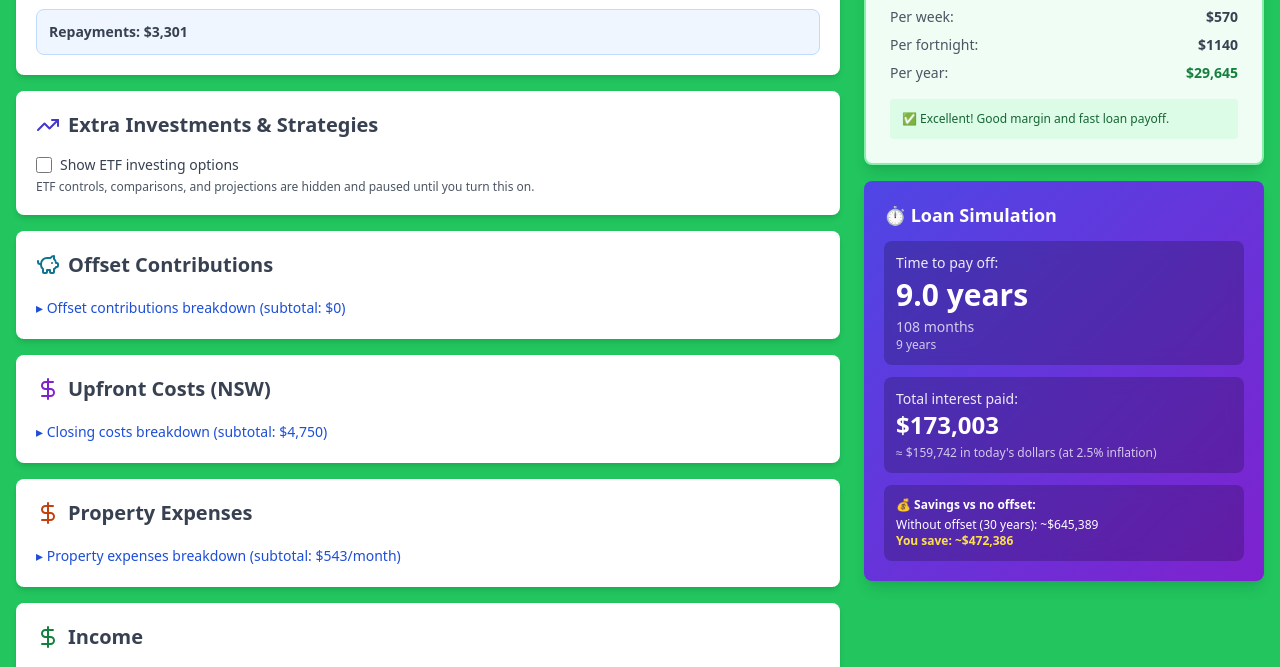
Scenario: The "saved in interest" figure (TODO-176) › is pinned on the shipped default plus one $10,000 one-time contribution
(page scrolled)
Click the button "▸ Offset contributions breakdown (subtotal: $0)" at [191, 308], box x1=36 y1=298 x2=346 y2=318
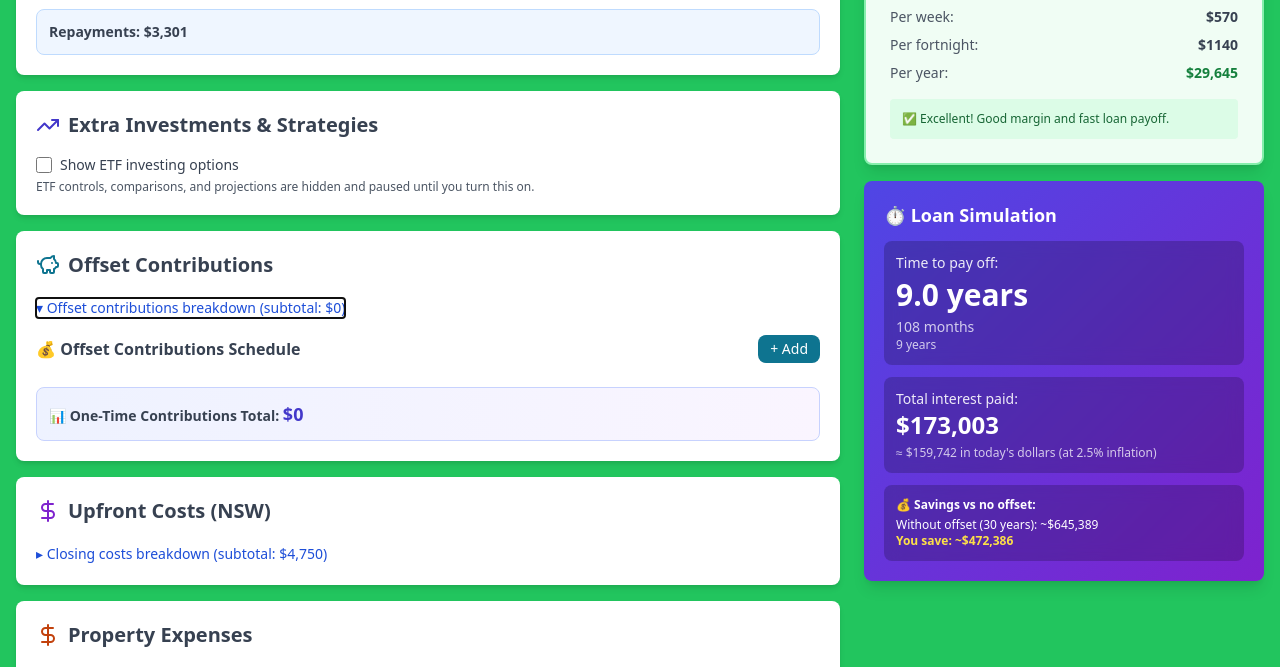
Click the button "+ Add" at [789, 349], box x1=758 y1=335 x2=820 y2=363
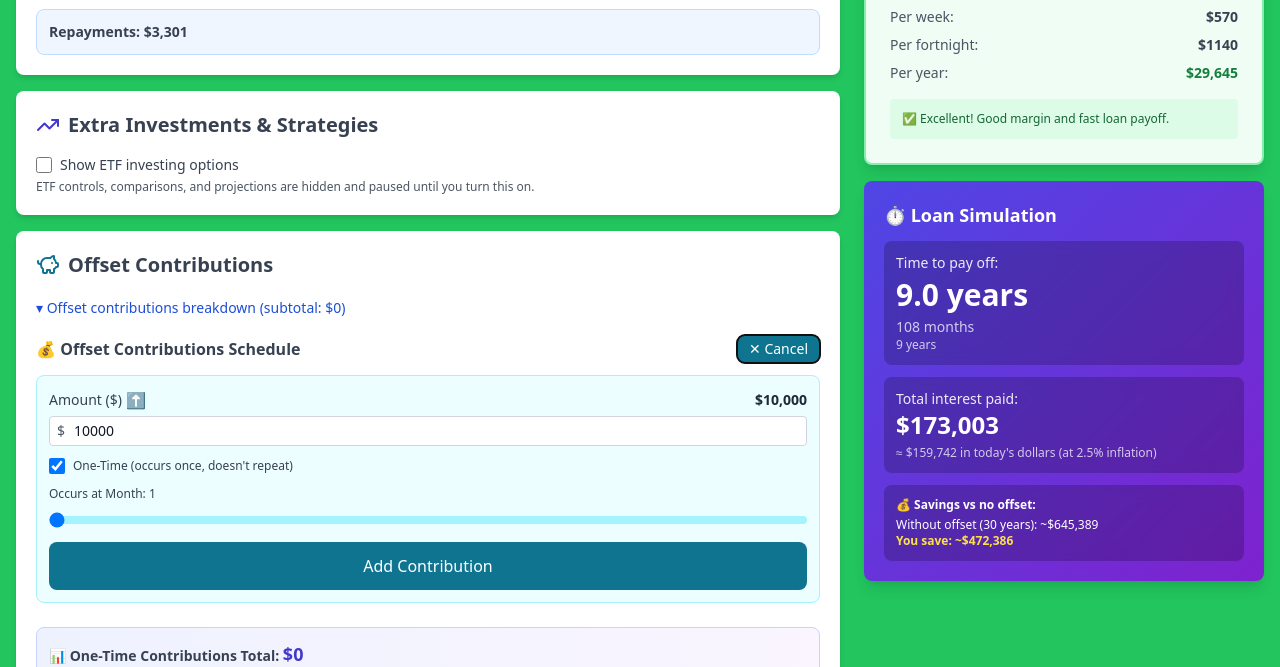
Click the button "Add Contribution" at [428, 566], box x1=49 y1=542 x2=807 y2=590
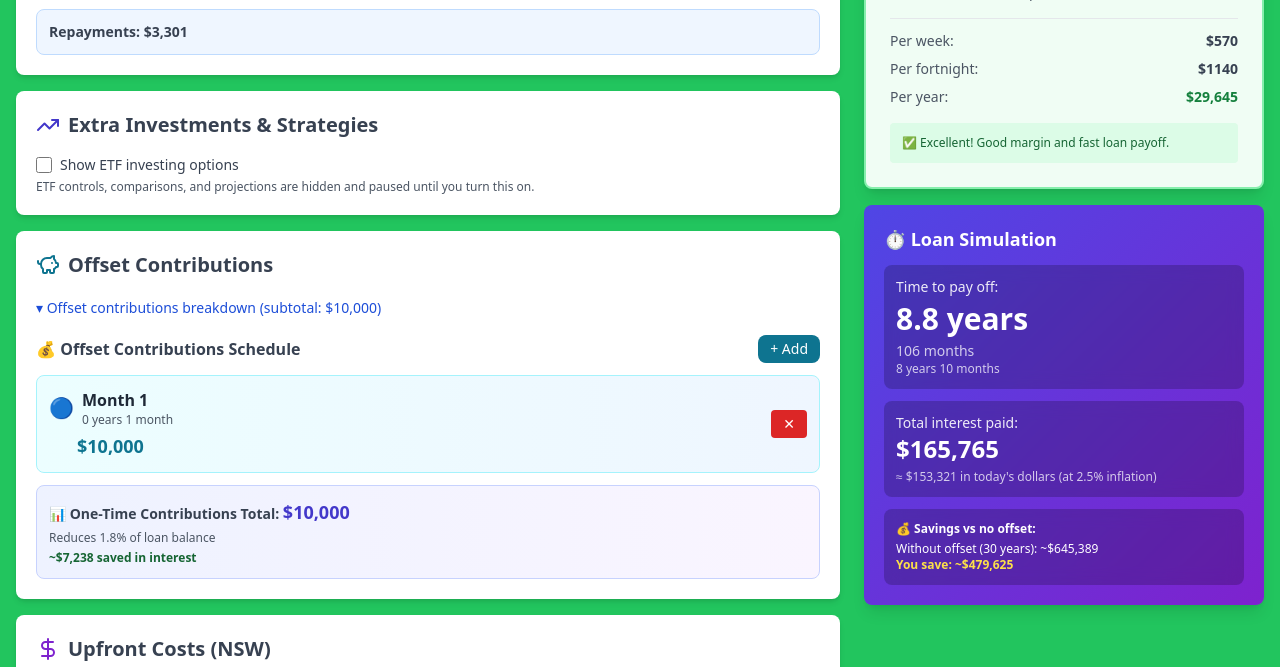
Check: the text "~$7,238 saved in interest" is shown, box x1=49 y1=549 x2=197 y2=566
